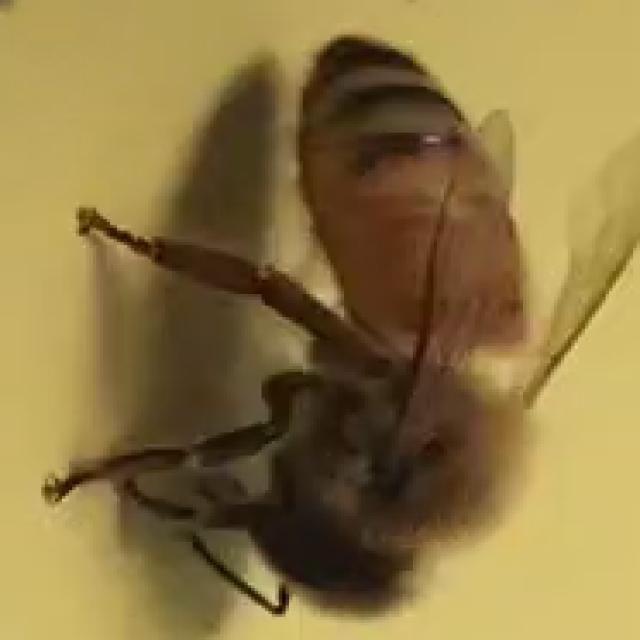honeybee: (176, 15, 640, 609)
